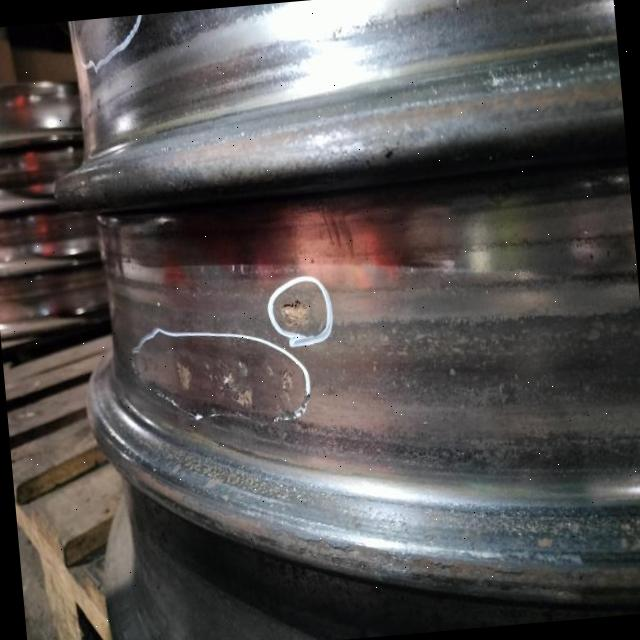Blue hole: (282, 298, 310, 327), (177, 361, 192, 390), (236, 389, 255, 409), (222, 370, 236, 390)
